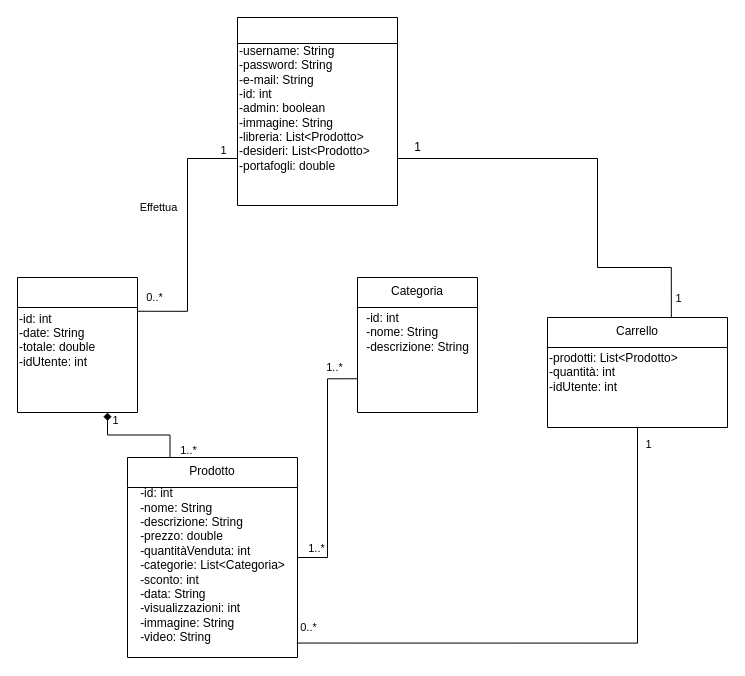
The diagram is 745 pixels wide and 676 high, and some of its shapes have lost their labels. Each missing label, with the box of its shape:
Ordine: (16, 276, 138, 412)
Utente: (236, 16, 398, 206)
